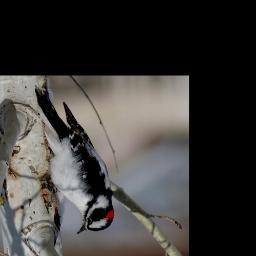Woodpecker: (33, 84, 113, 236)
